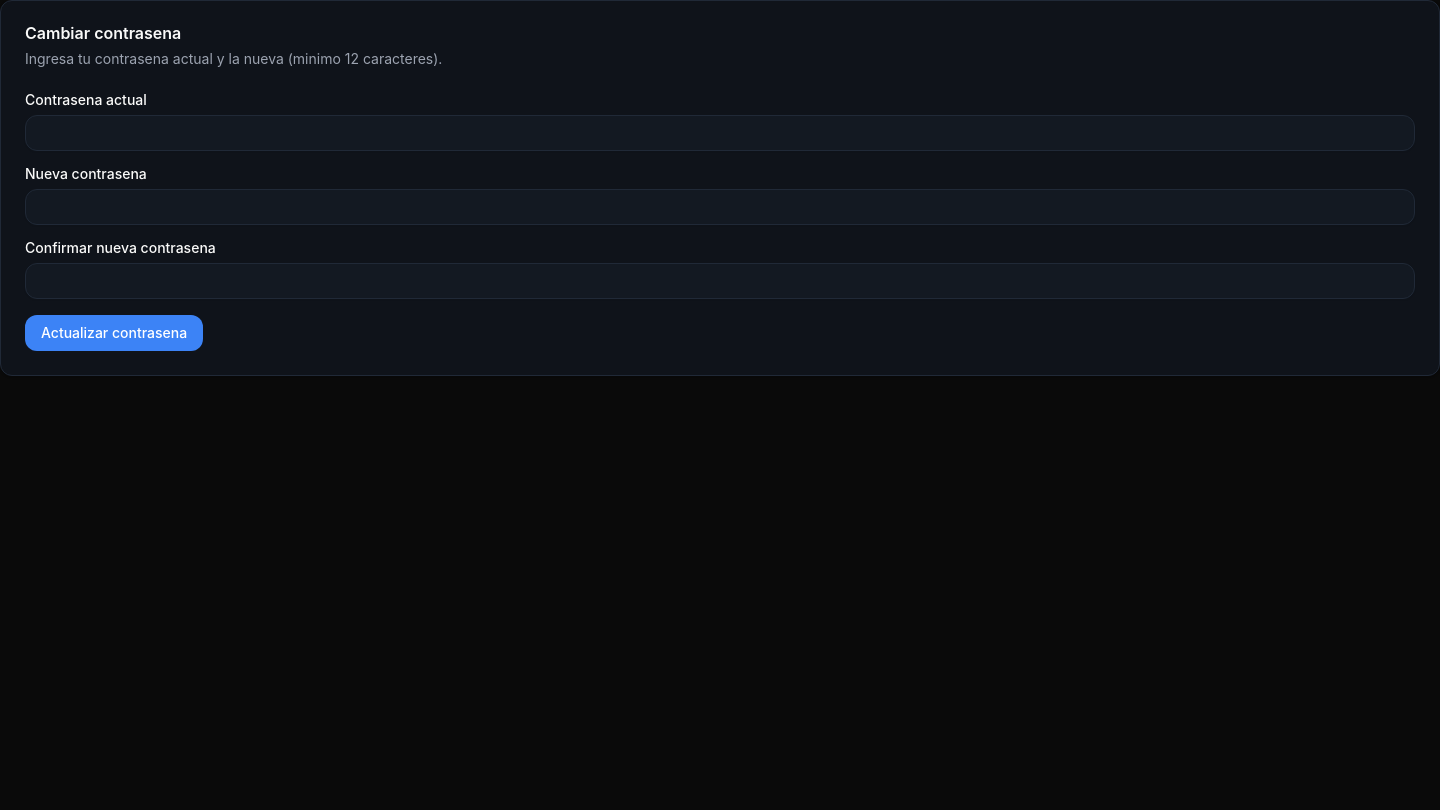
it: ChangePasswordForm › Given datos validos When submit Then muestra toast Contrasena actualizada
Type "old-pass-123" into the password field labelled "Contrasena actual". click: (720, 133)
box: [25,115,1415,151]
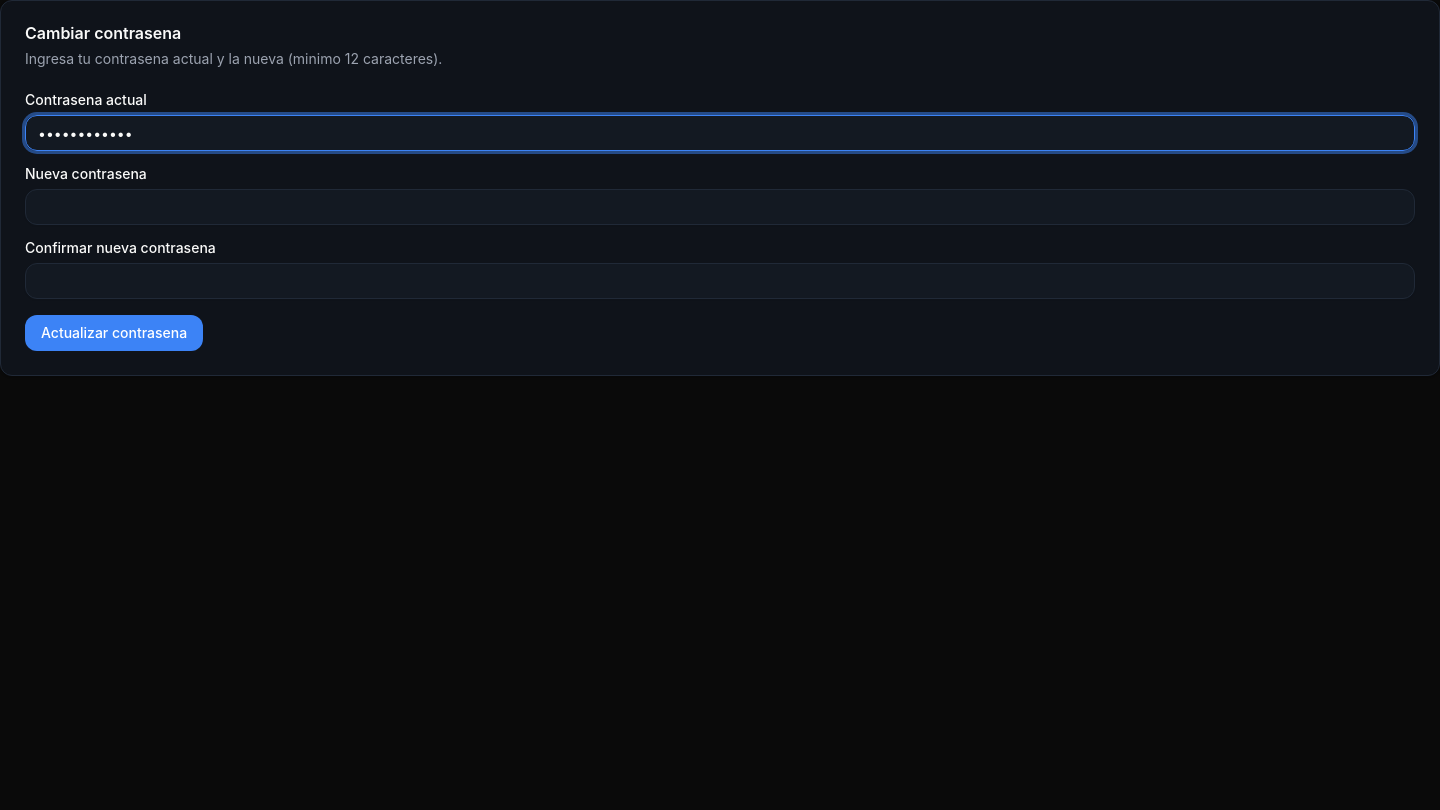
Type "nueva-pass-larga-1" into the password field labelled "Nueva contrasena". click: (720, 207)
box: [25,189,1415,225]
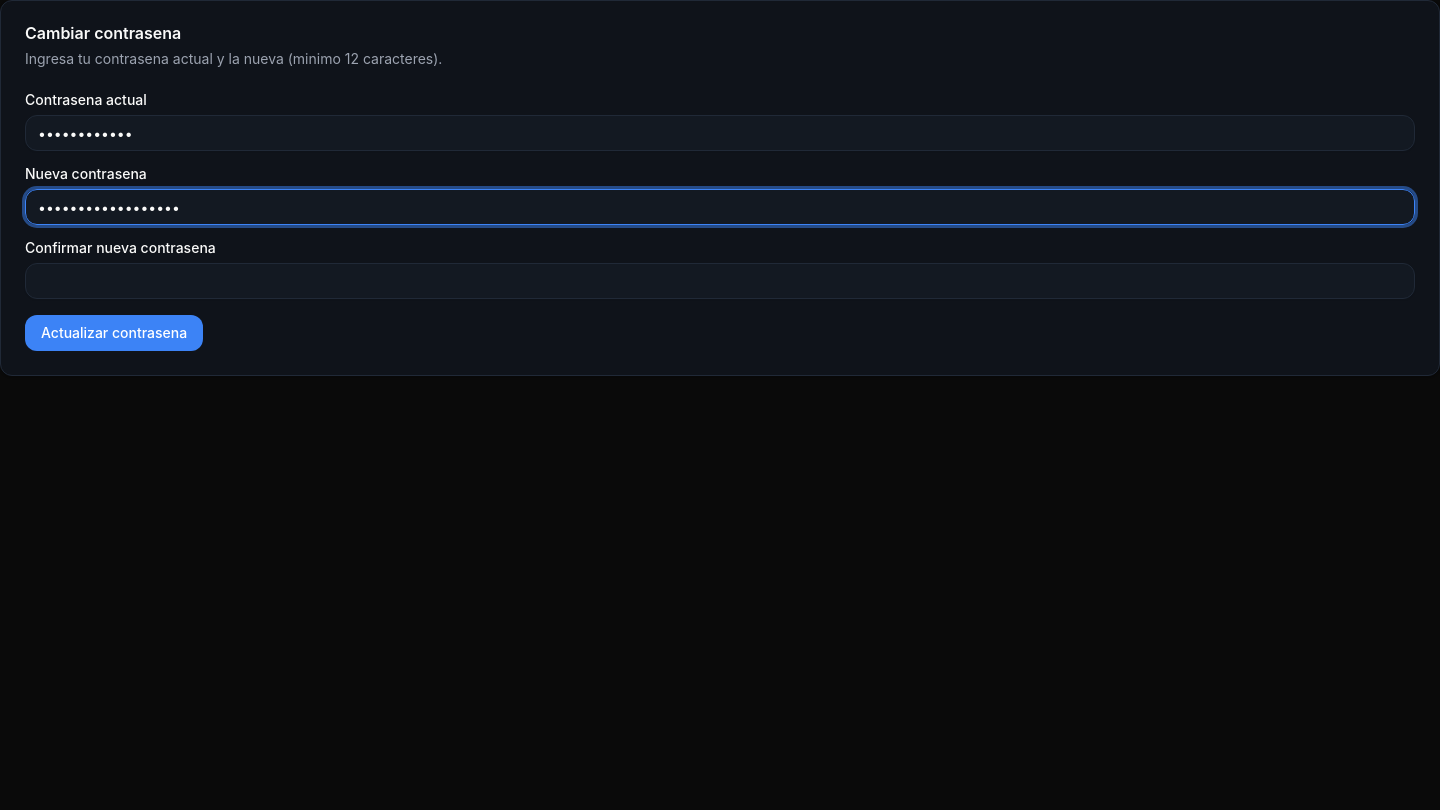
Type "nueva-pass-larga-1" into the password field labelled "Confirmar nueva contrasena". click: (720, 281)
box: [25,263,1415,299]
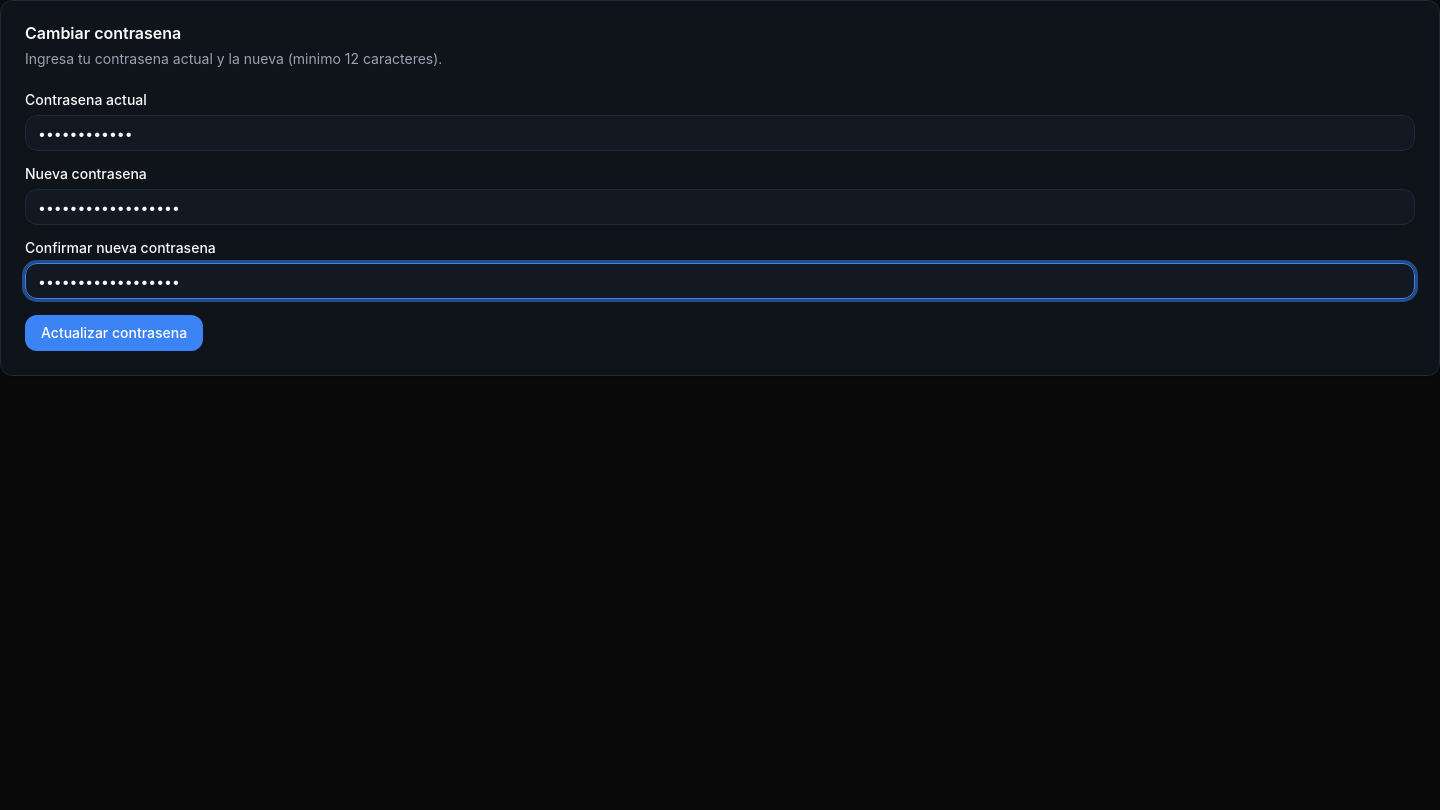
Click the button "Actualizar contrasena". click: (114, 333)
box: [25,315,203,351]
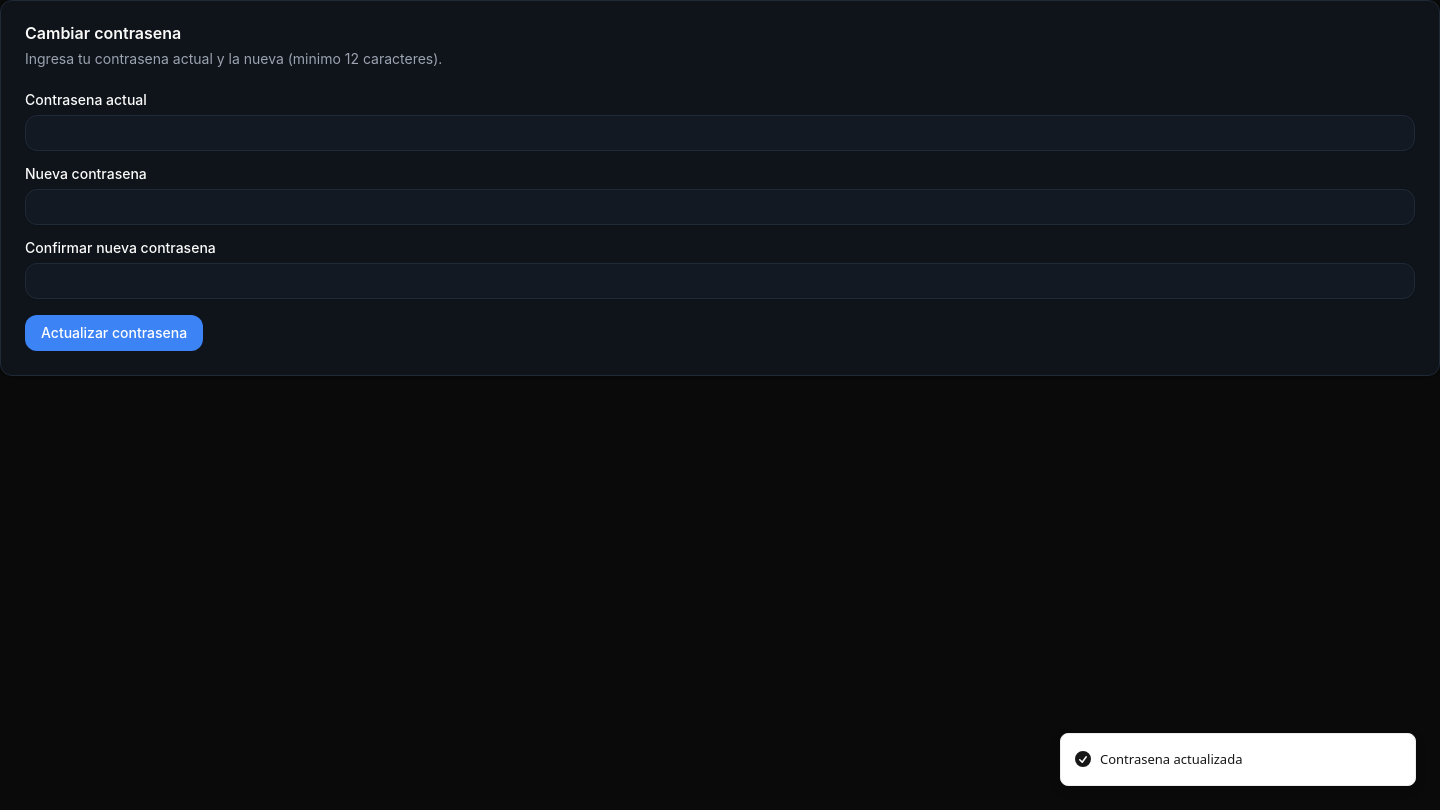
Expected: the text "Contrasena actualizada" is shown, [1100,750,1242,769]
